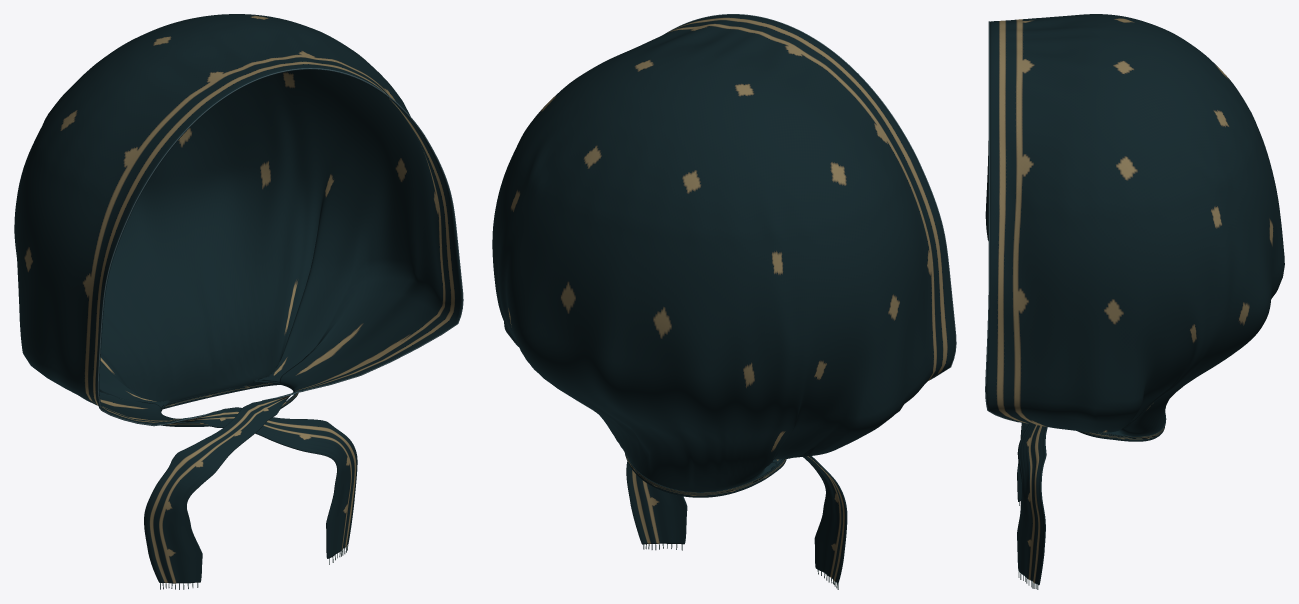
File: Masculine-buzz-sweatshirt-pashmina249-headgear.glb
The picture shows the model from 3 angles, left to right: view 1: azimuth 30°, elevation 25°; view 2: azimuth 150°, elevation 25°; view 3: azimuth 270°, elevation 25°; orthographic projection. The views are drawn at different scales.
Visible parts, largest first — view 1: 226 headgear / Headwear / continuous woven pashmina239, 226 headgear / Headwear / face edge239; view 2: 226 headgear / Headwear / continuous woven pashmina239, 226 headgear / Headwear / face edge239; view 3: 226 headgear / Headwear / continuous woven pashmina239, 226 headgear / Headwear / face edge239.
Boxes of the visible parts, box(x1,y1,x2,y2) form: 226 headgear / Headwear / continuous woven pashmina239: box(14, 14, 462, 583); 226 headgear / Headwear / face edge239: box(97, 68, 463, 426); 226 headgear / Headwear / continuous woven pashmina239: box(492, 14, 955, 583); 226 headgear / Headwear / face edge239: box(665, 14, 956, 380); 226 headgear / Headwear / continuous woven pashmina239: box(985, 14, 1284, 585); 226 headgear / Headwear / face edge239: box(985, 21, 1021, 422).
Size of the model in its own units: 1.03 by 1.35 by 0.7152.
Materials: 3 (1 with a texture image).
